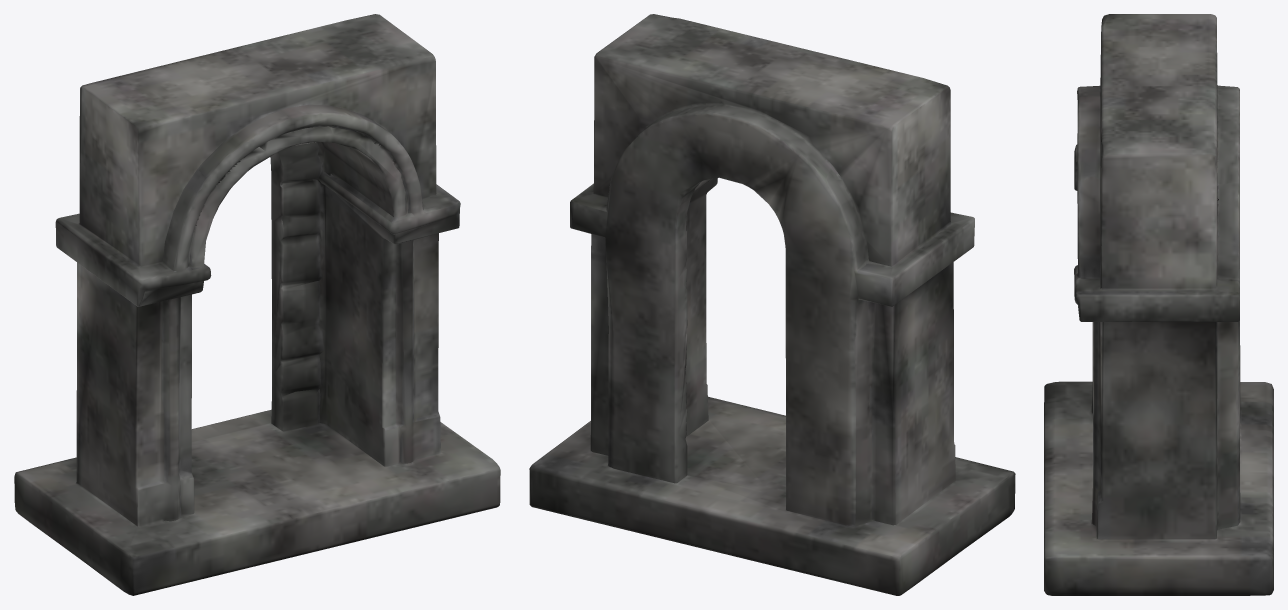
File: worn-granite-arched-doorway-v001.glb
The picture shows the model from 3 angles, left to right: view 1: azimuth 30°, elevation 25°; view 2: azimuth 150°, elevation 25°; view 3: azimuth 270°, elevation 25°; orthographic projection. The views are drawn at different scales.
Visible parts, largest first — view 1: worn-granite-arched-doorway; view 2: worn-granite-arched-doorway; view 3: worn-granite-arched-doorway.
Boxes of the visible parts, x1,y1,x2,y2 form: worn-granite-arched-doorway: (14, 14, 500, 595); worn-granite-arched-doorway: (529, 14, 1015, 595); worn-granite-arched-doorway: (1044, 14, 1273, 595).
Bounding box in the file's own units: 2.59 × 2.92 × 1.42.
Materials: 1 (1 with a texture image).
